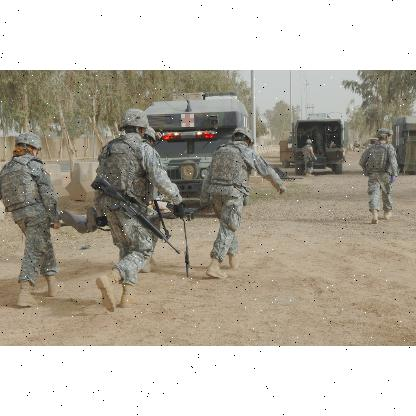gun: (90, 172, 182, 258), (281, 174, 305, 182)
